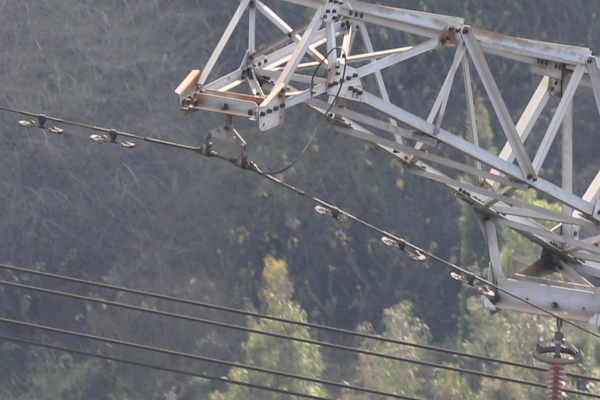damper: (377, 230, 427, 265), (448, 267, 497, 299), (16, 110, 65, 135), (86, 127, 137, 149)
damper_defect: (313, 201, 344, 223)
